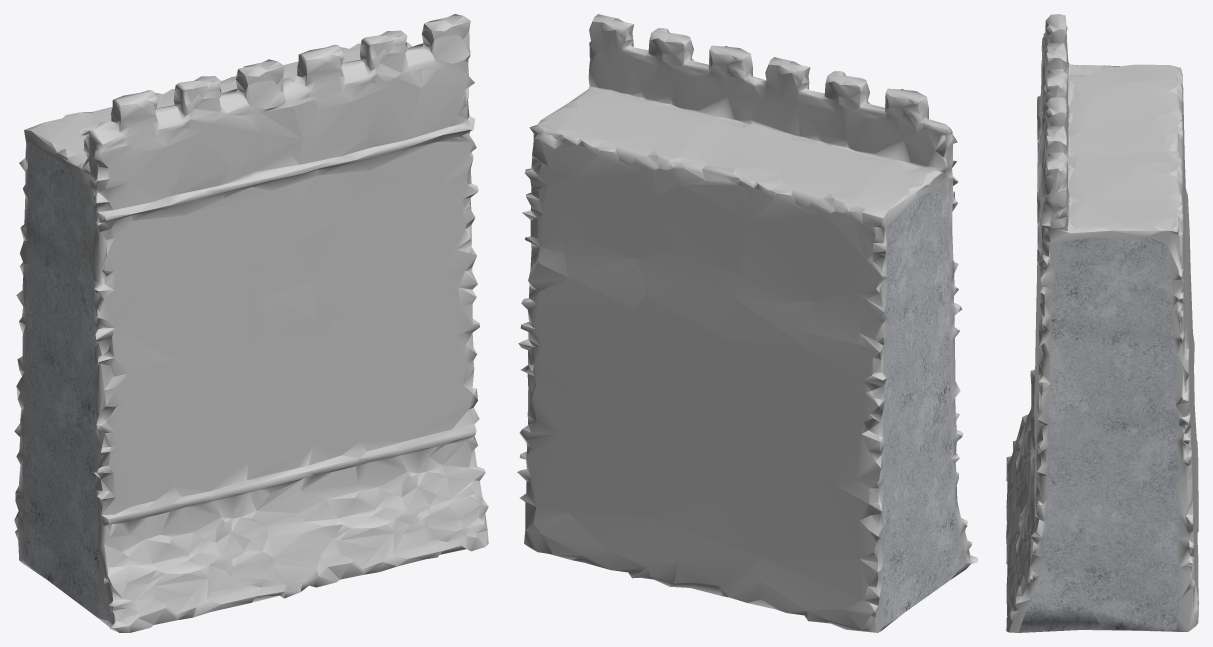
The model's file is wall_large.fbx.
3 renders of one model, left to right at view 1: azimuth 30°, elevation 25°; view 2: azimuth 150°, elevation 25°; view 3: azimuth 270°, elevation 25°, orthographic. The views are drawn at different scales.
Parts seen in each view (by area): view 1: wall_large; view 2: wall_large; view 3: wall_large.
Part boxes in pixels (x1,y1,x2,y2): wall_large: (14,14,488,632); wall_large: (517,14,977,632); wall_large: (1006,14,1198,632).
Bounding box in the file's own units: 981 × 1235 × 460.
